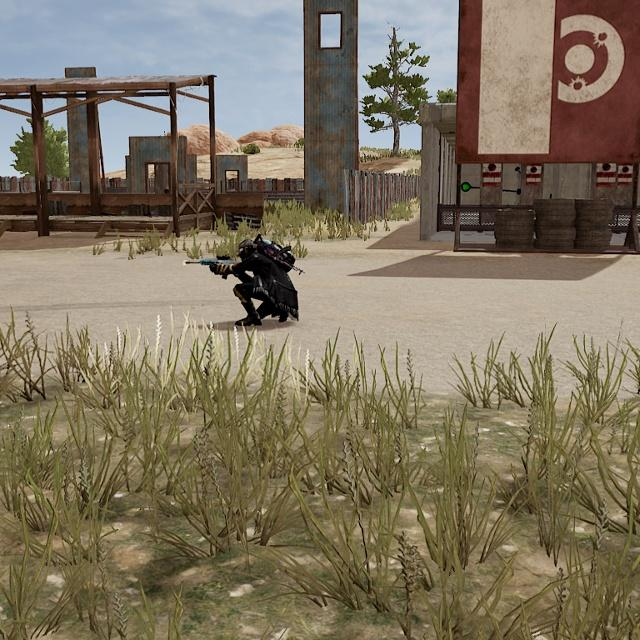head: (236, 238, 260, 266)
people: (226, 238, 298, 330)
